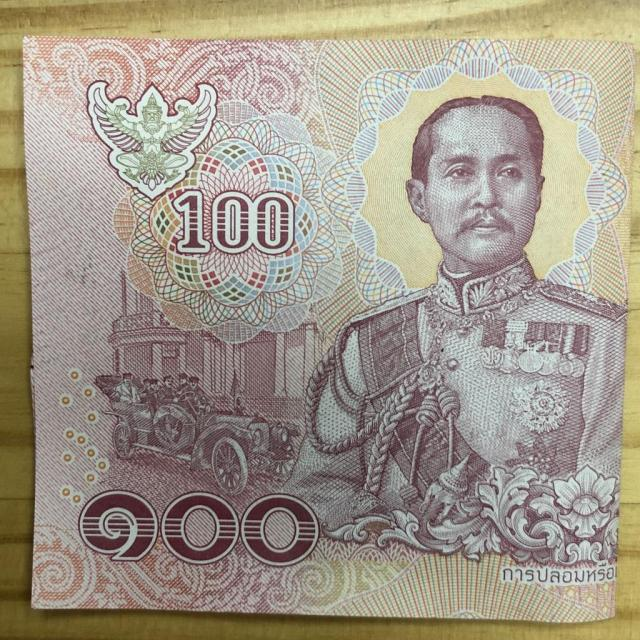THAI100: (24, 36, 635, 622)
